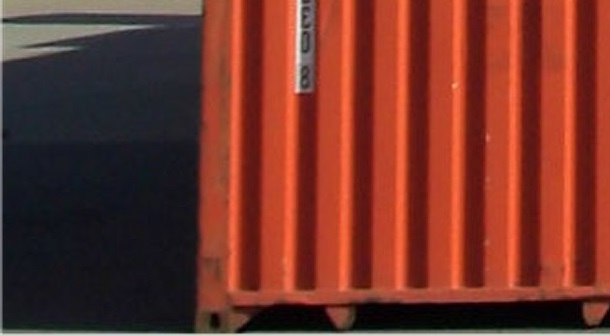container_no_door: (192, 1, 607, 328)
